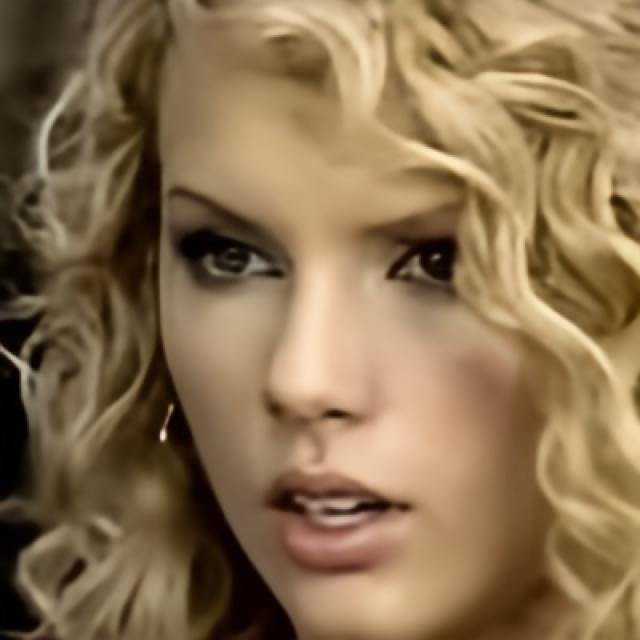surprise: (153, 0, 616, 640)
